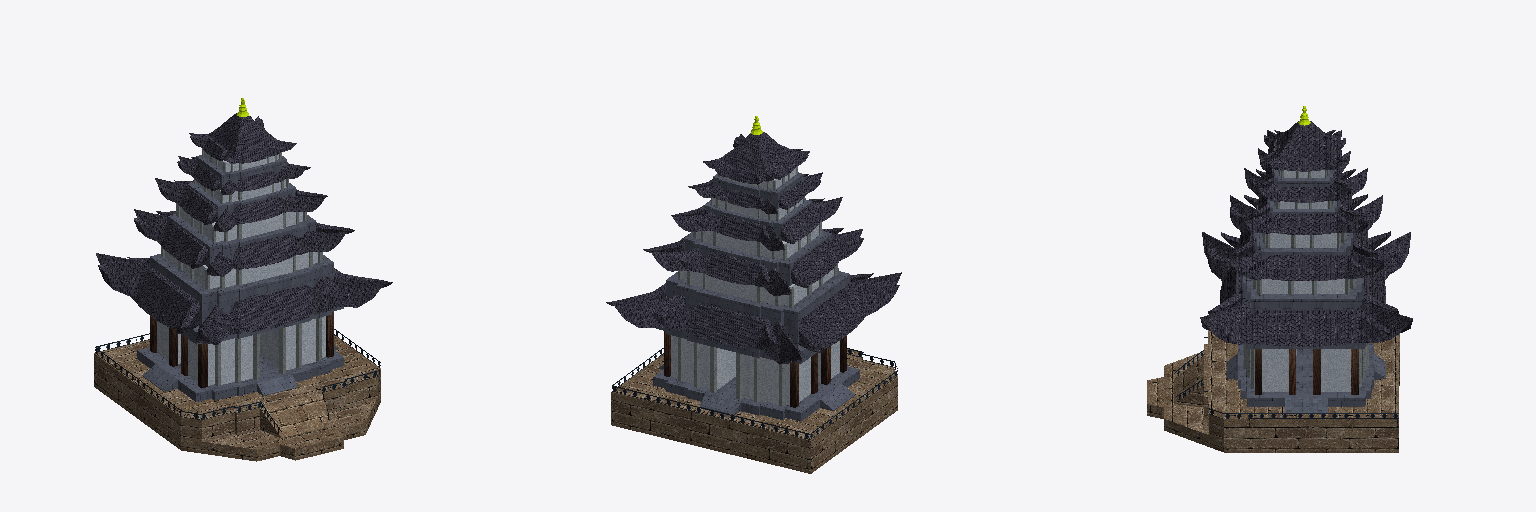
3 views of the same model, side by side, from view 1: azimuth 30°, elevation 25°; view 2: azimuth 150°, elevation 25°; view 3: azimuth 270°, elevation 25° (orthographic).
Parts seen in each view (by area): view 1: Roof, base, bigPart_socle, Shape006, Shape013, Cylinder001, Box008, Shape002; view 2: Roof, base, bigPart_socle, Shape006, Shape013, Cylinder001, Box008, Shape002; view 3: Roof, base, bigPart_socle, Shape006, Shape013, Cylinder001, Box008, Shape002.
Part boxes in pixels (left/top/right/bottom): Roof: left=96, top=113, right=392, bottom=344; base: left=94, top=335, right=380, bottom=461; bigPart_socle: left=137, top=155, right=343, bottom=401; Shape006: left=157, top=316, right=325, bottom=385; Shape013: left=165, top=151, right=317, bottom=288; Cylinder001: left=161, top=149, right=322, bottom=385; Box008: left=150, top=311, right=333, bottom=387; Shape002: left=95, top=329, right=380, bottom=432; Roof: left=606, top=132, right=901, bottom=364; base: left=611, top=349, right=897, bottom=473; bigPart_socle: left=653, top=172, right=859, bottom=421; Shape006: left=671, top=335, right=839, bottom=404; Shape013: left=683, top=168, right=833, bottom=305; Cylinder001: left=678, top=166, right=837, bottom=405; Box008: left=664, top=331, right=846, bottom=407; Shape002: left=612, top=348, right=897, bottom=439; Roof: left=1200, top=121, right=1412, bottom=346; base: left=1147, top=330, right=1399, bottom=452; bigPart_socle: left=1227, top=169, right=1385, bottom=412; Shape006: left=1262, top=349, right=1350, bottom=391; Shape013: left=1262, top=170, right=1344, bottom=293; Cylinder001: left=1244, top=170, right=1368, bottom=388; Box008: left=1255, top=349, right=1358, bottom=394; Shape002: left=1174, top=337, right=1398, bottom=418.
Size of the model in its own units: 27.04 by 37.64 by 30.44.
8 materials, 7 textured.